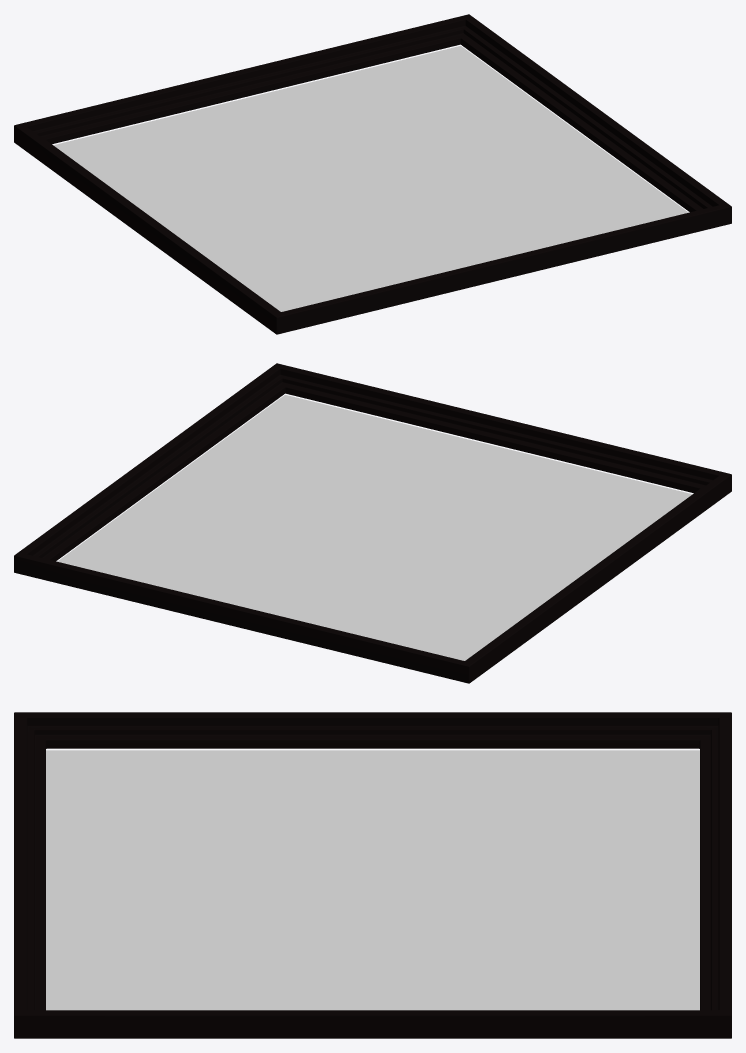
3 views of the same model, one above another, from view 1: azimuth 30°, elevation 25°; view 2: azimuth 150°, elevation 25°; view 3: azimuth 270°, elevation 25° (orthographic). The views are drawn at different scales.
Visible parts, largest first — view 1: plane-measure, a:group5_a:polySurface10; view 2: plane-measure, a:group5_a:polySurface10; view 3: plane-measure, a:group5_a:polySurface10.
Boxes of the visible parts, x1,y1,x2,y2 form: plane-measure: (53,46,688,311); a:group5_a:polySurface10: (14,14,731,334); plane-measure: (57,395,692,660); a:group5_a:polySurface10: (14,363,731,683); plane-measure: (46,750,699,1010); a:group5_a:polySurface10: (14,712,731,1038).
Bounding box in the file's own units: 76.22 × 2.98 × 76.22.
Materials: 1 (1 with a texture image).
